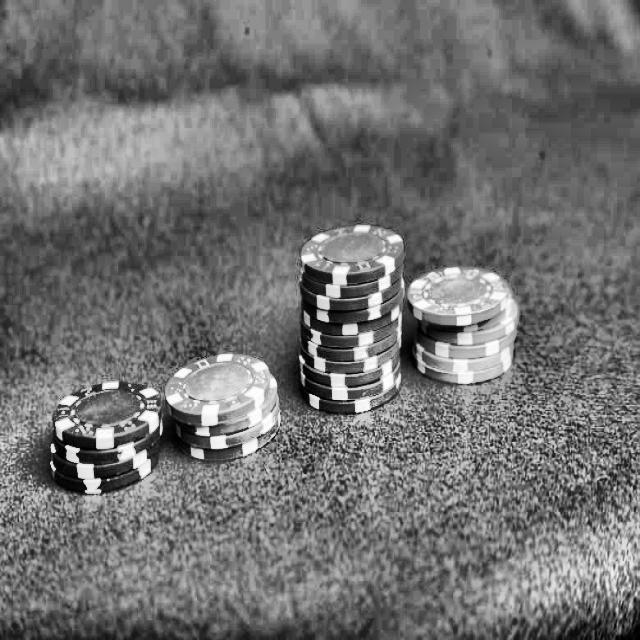Chip: (292, 216, 408, 424), (400, 256, 525, 388), (38, 380, 164, 500), (160, 346, 286, 466)
